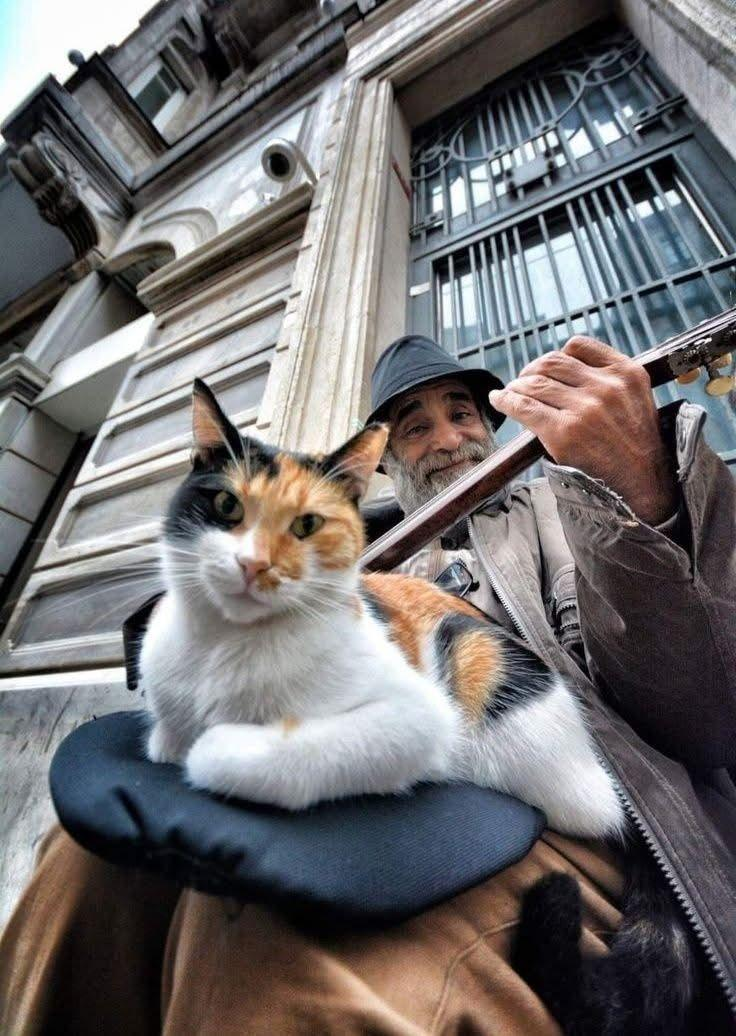kedo: (141, 377, 622, 842)
